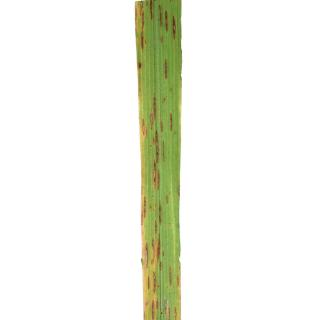Bercak-Cokelat-Sempit: (149, 0, 187, 42), (149, 128, 165, 192), (142, 297, 182, 320), (132, 1, 146, 56), (137, 192, 155, 228), (142, 234, 160, 269), (144, 89, 160, 126), (161, 56, 177, 84), (146, 270, 162, 295), (166, 260, 176, 292), (157, 196, 165, 232), (168, 107, 176, 139)
